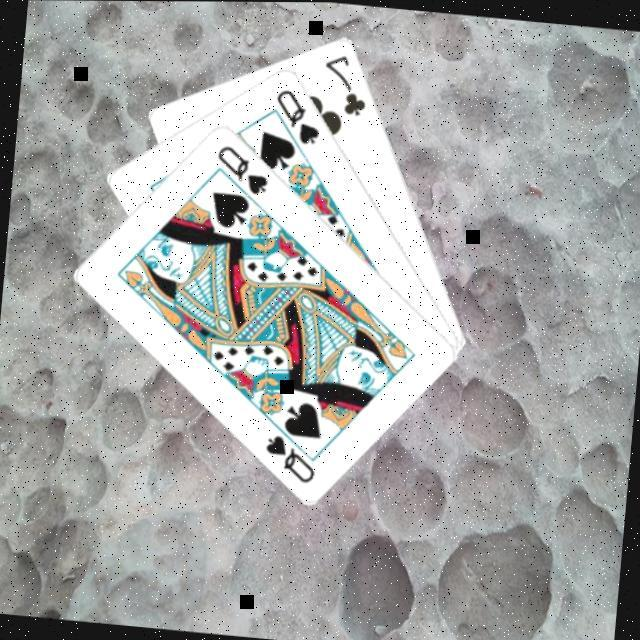7C: (318, 50, 375, 120)
QS: (269, 85, 327, 149), (211, 141, 275, 199), (260, 431, 322, 488)
